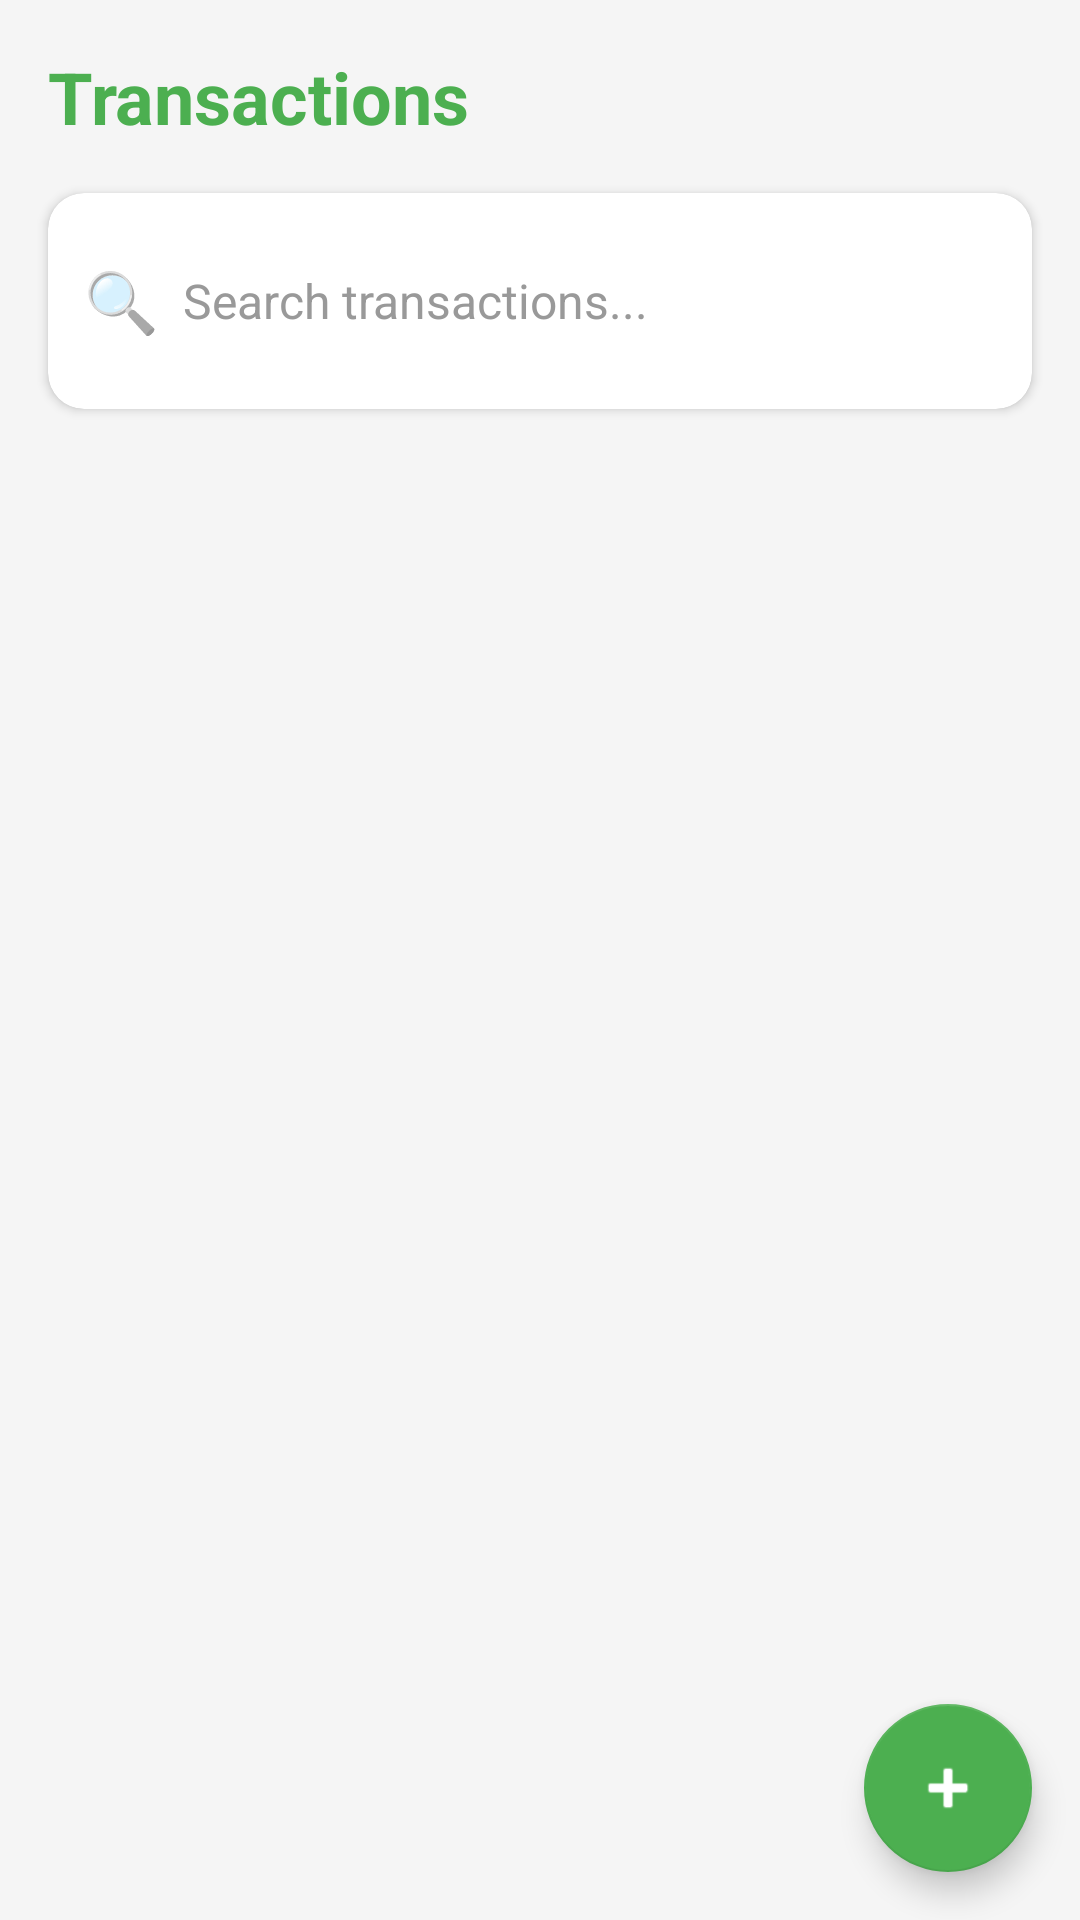

Where to tap for icons on this 1080px×1920px app screen, as [x,y]:
Add Transaction: [948,1788]
